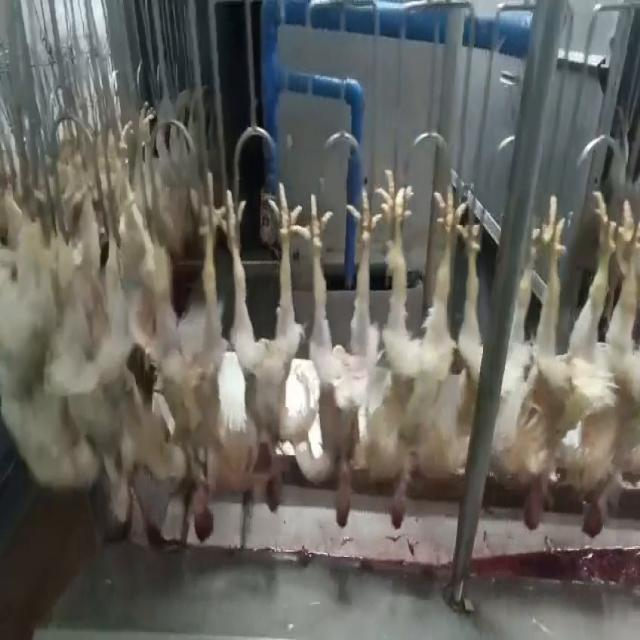chicken: (364, 171, 474, 533), (210, 175, 308, 513), (290, 180, 380, 535), (150, 177, 223, 550), (503, 197, 582, 535), (580, 188, 639, 539), (454, 196, 488, 450)
